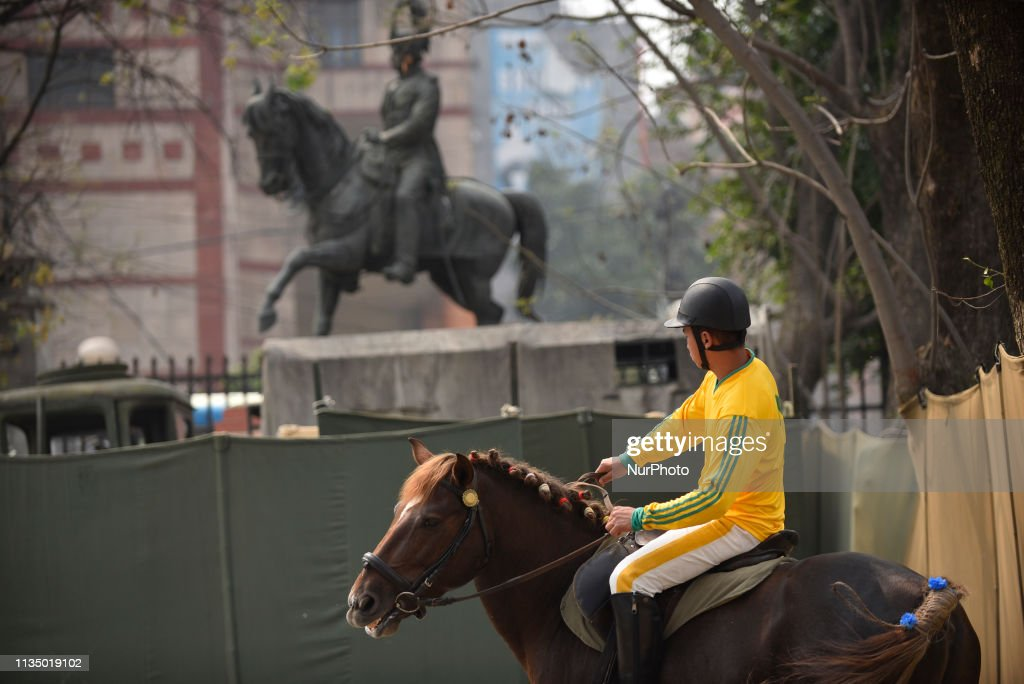human: (593, 267, 796, 684)
